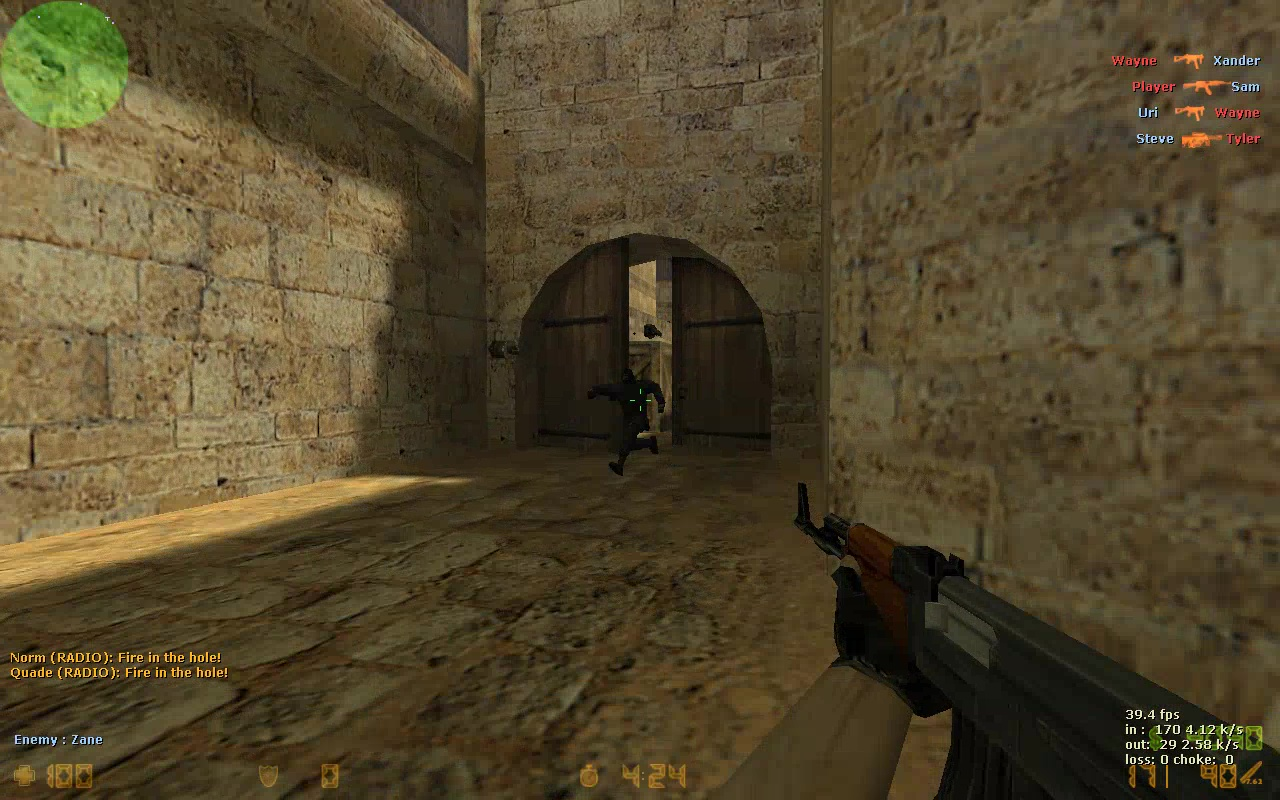ct: (588, 366, 666, 476)
